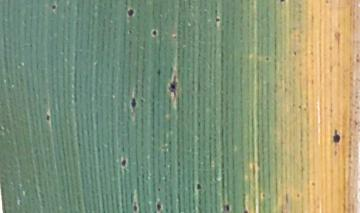tarspot: (166, 63, 180, 109), (333, 126, 340, 149), (126, 7, 136, 17), (132, 200, 140, 212), (131, 93, 136, 111), (262, 55, 272, 64), (48, 3, 59, 11), (222, 204, 233, 212), (120, 158, 128, 168), (151, 27, 158, 38), (156, 201, 162, 212), (45, 113, 52, 122), (215, 16, 222, 25), (260, 191, 267, 200), (127, 29, 133, 34), (196, 183, 200, 190), (243, 209, 250, 213)
